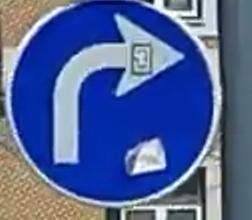sentido obrigatorio: (6, 0, 216, 209)
